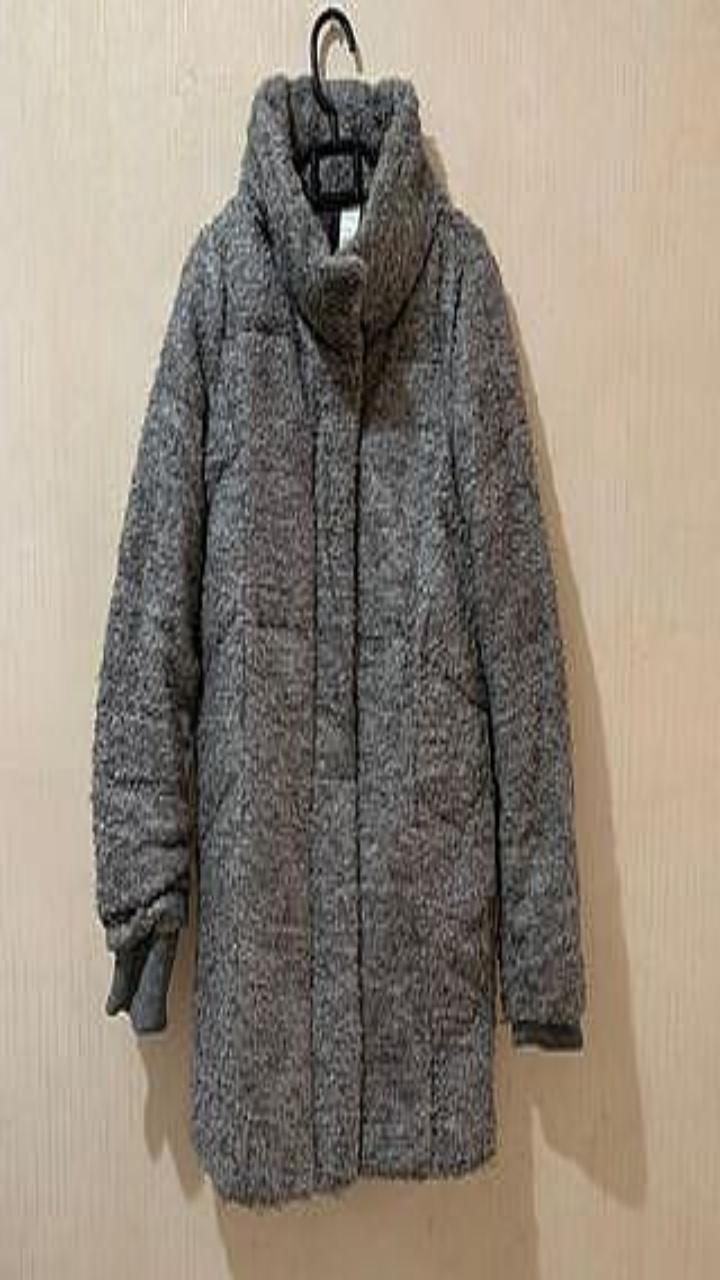Coat: (91, 74, 585, 1204)
